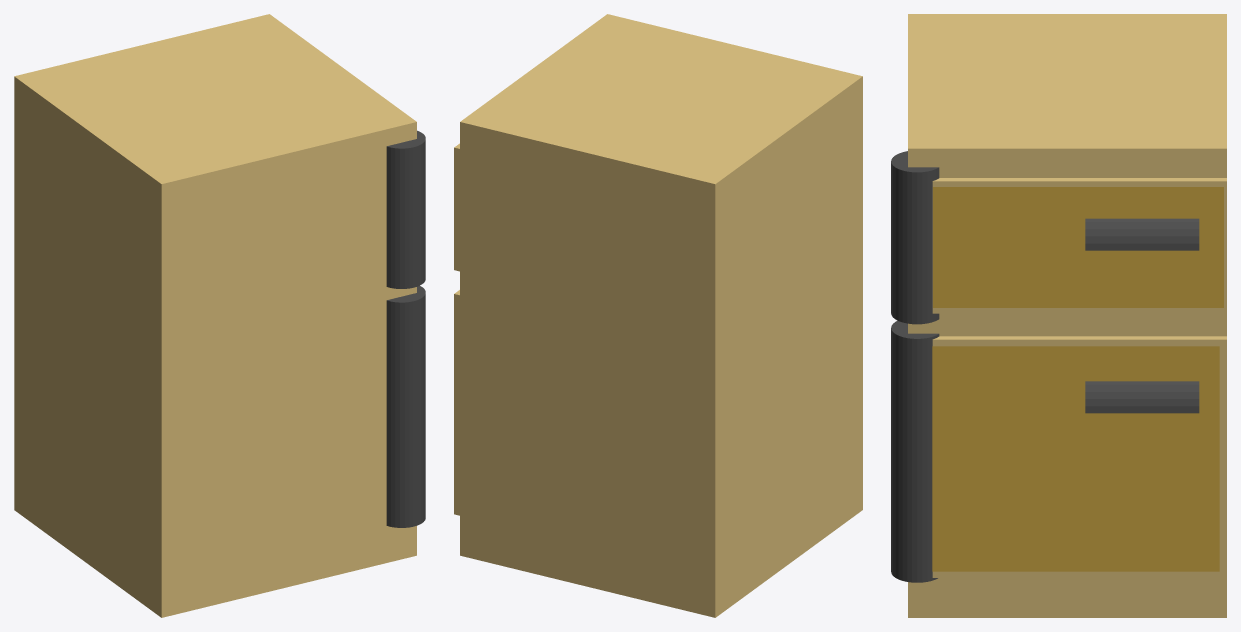
The model's file is Minifridge.fbx.
The picture shows the model from 3 angles, left to right: view 1: azimuth 30°, elevation 25°; view 2: azimuth 150°, elevation 25°; view 3: azimuth 270°, elevation 25°; orthographic projection. The views are drawn at different scales.
Visible parts, largest first — view 1: Fridge_Base, Cylinder, Cylinder.001; view 2: Fridge_Base; view 3: Fridge_Base, Cylinder, Cylinder.001, Cylinder.002, Cylinder.003.
Part boxes in pixels (x1=…): Fridge_Base: x1=14, y1=14, x2=416, y2=617; Cylinder: x1=386, y1=285, x2=425, y2=527; Cylinder.001: x1=386, y1=130, x2=425, y2=288; Fridge_Base: x1=454, y1=14, x2=862, y2=617; Fridge_Base: x1=908, y1=14, x2=1226, y2=617; Cylinder: x1=891, y1=320, x2=939, y2=582; Cylinder.001: x1=891, y1=151, x2=939, y2=324; Cylinder.002: x1=1085, y1=381, x2=1199, y2=413; Cylinder.003: x1=1085, y1=218, x2=1199, y2=250.
Size of the model in its own units: 127 by 193 by 125.
